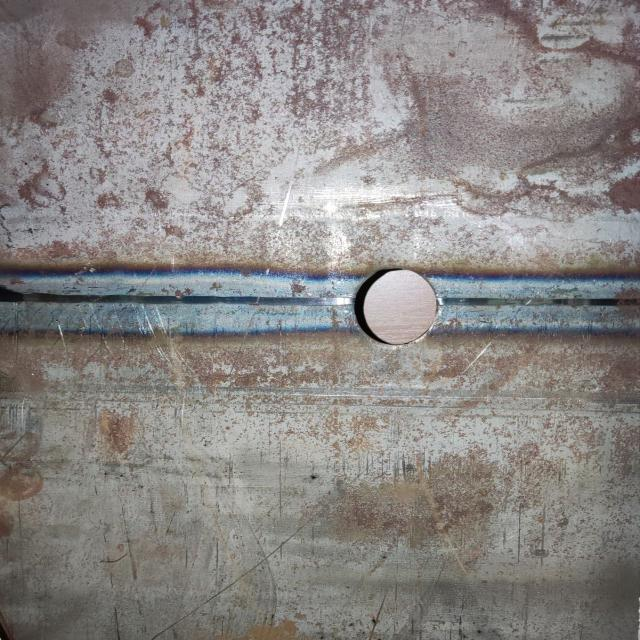seam: (0, 252, 639, 353)
